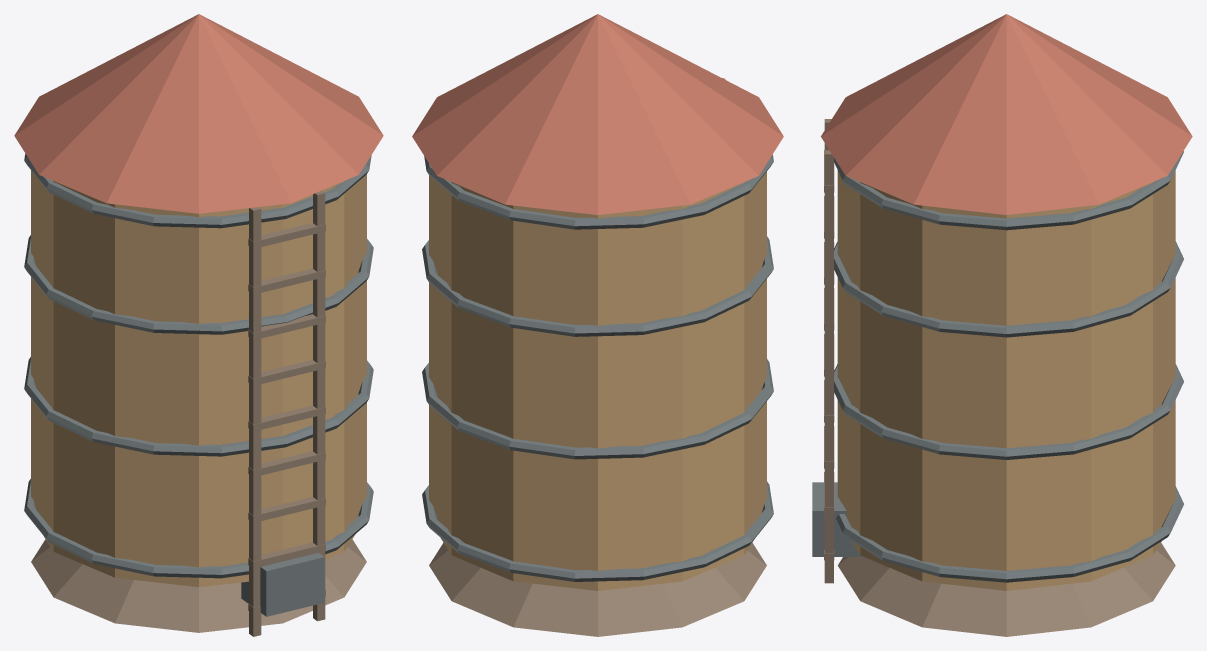
Rendered from harvest-hearth-timber-grain-silo__51.glb.
3 renders of one model, left to right at view 1: azimuth 30°, elevation 25°; view 2: azimuth 150°, elevation 25°; view 3: azimuth 270°, elevation 25°, orthographic.
Visible parts, largest first — view 1: harvest-hearth-grain-silo; view 2: harvest-hearth-grain-silo; view 3: harvest-hearth-grain-silo.
Boxes of the visible parts, bbox=[...] form: harvest-hearth-grain-silo: bbox=[14, 14, 383, 636]; harvest-hearth-grain-silo: bbox=[412, 14, 783, 636]; harvest-hearth-grain-silo: bbox=[812, 14, 1192, 636].
Bounding box in the file's own units: 2.2 × 3.6 × 2.25.
